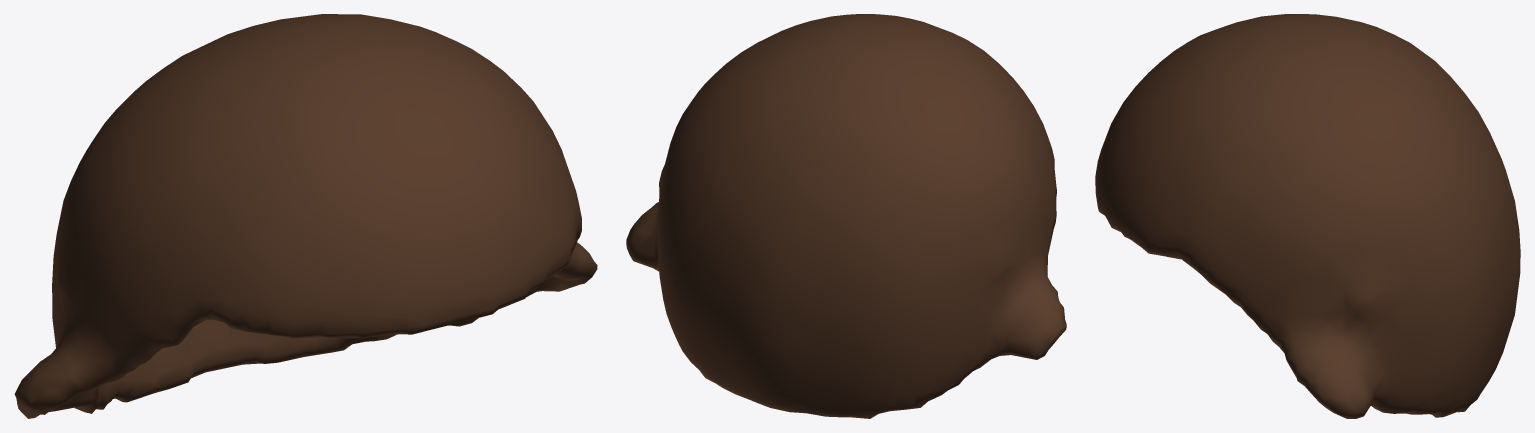
Rendered from hair_twin_puffs.glb.
3 renders of one model, left to right at view 1: azimuth 30°, elevation 25°; view 2: azimuth 150°, elevation 25°; view 3: azimuth 270°, elevation 25°, orthographic. The views are drawn at different scales.
Visible parts, largest first — view 1: HairTwinPuffs.001; view 2: HairTwinPuffs.001; view 3: HairTwinPuffs.001.
Part boxes in pixels (left/top/right/bottom): HairTwinPuffs.001: left=14, top=14, right=597, bottom=418; HairTwinPuffs.001: left=626, top=14, right=1066, bottom=418; HairTwinPuffs.001: left=1095, top=14, right=1520, bottom=418.
Size of the model in its own units: 0.3596 by 0.2503 by 0.286.
